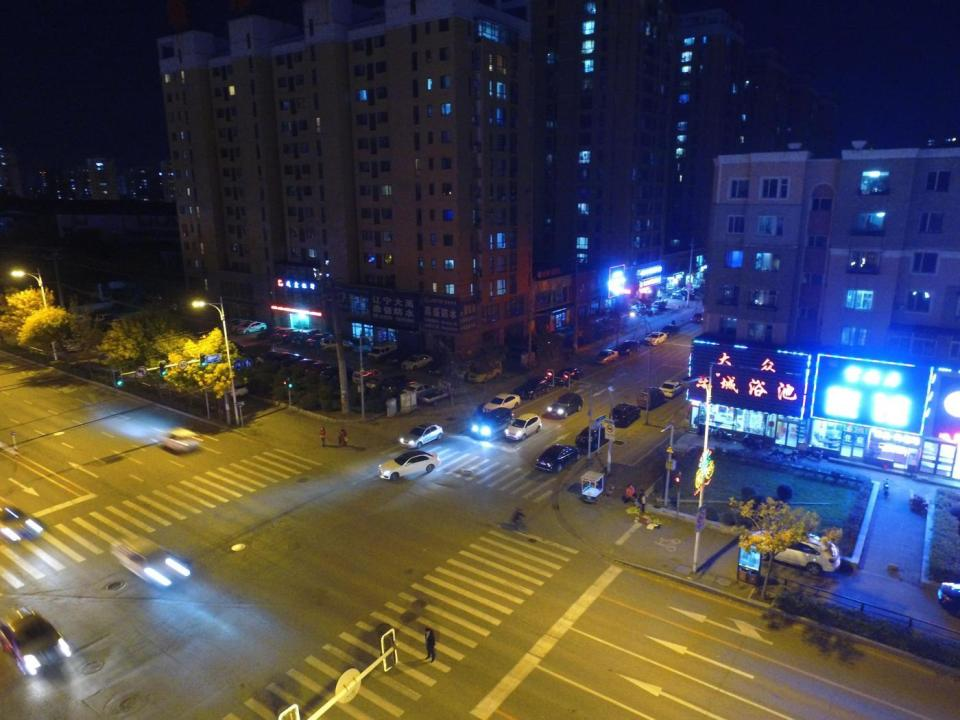car: (0, 609, 71, 678), (109, 535, 193, 590), (752, 529, 842, 576), (376, 450, 440, 481), (0, 503, 43, 546), (156, 425, 204, 457), (469, 406, 511, 439), (535, 445, 580, 471), (398, 422, 442, 448), (504, 413, 542, 439), (514, 374, 551, 400), (546, 393, 584, 418), (481, 392, 519, 416), (608, 402, 640, 428), (576, 425, 608, 449), (508, 338, 546, 358), (469, 365, 503, 384), (453, 363, 487, 382), (637, 386, 664, 409), (552, 366, 580, 388), (235, 320, 267, 336), (659, 378, 682, 400), (593, 348, 618, 368), (402, 354, 433, 369), (270, 327, 297, 344), (402, 381, 430, 397), (274, 354, 302, 370), (293, 328, 319, 345), (305, 332, 332, 348), (319, 365, 346, 381), (288, 358, 315, 374), (265, 353, 292, 369), (282, 330, 308, 346), (304, 362, 331, 377), (618, 339, 640, 354), (644, 332, 666, 346), (661, 324, 681, 337), (636, 305, 659, 316), (674, 288, 695, 300), (668, 290, 688, 302), (690, 312, 708, 324)
truck: (418, 379, 458, 407)
van: (368, 341, 396, 361), (352, 367, 380, 387), (320, 337, 352, 354)
